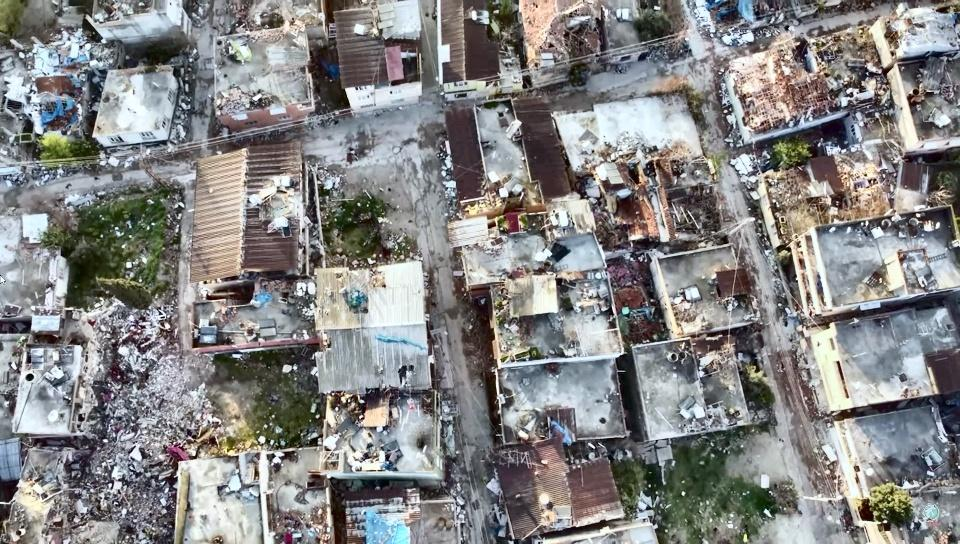kapali: (142, 304, 200, 543)
